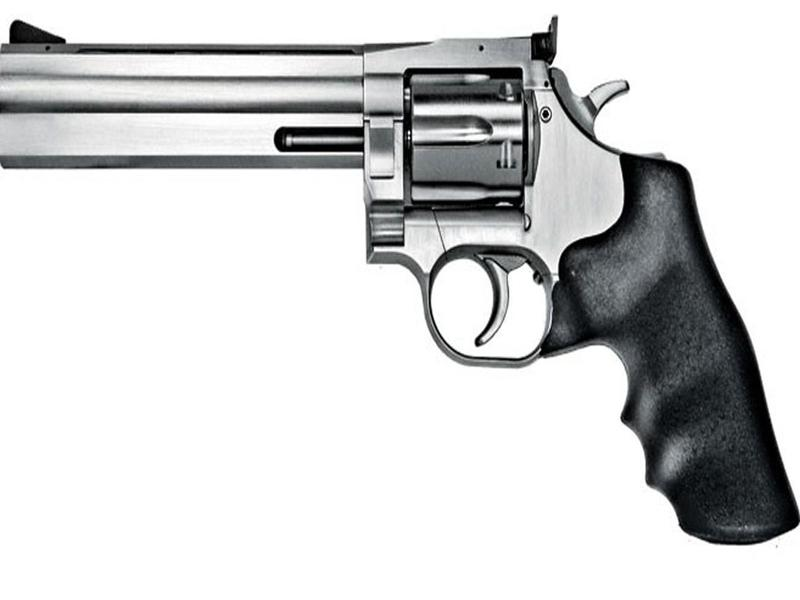Revolver: (12, 10, 800, 487)
